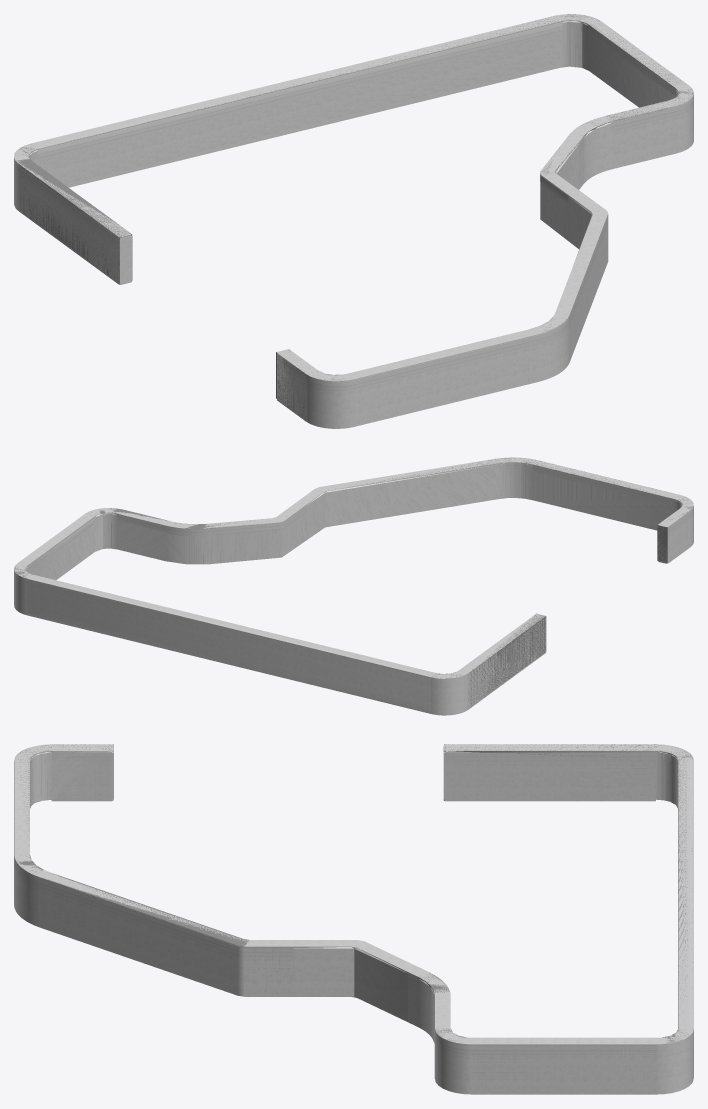
The model's file is si_helipad_limits.DAE.
The picture shows the model from 3 angles, top to bottom: view 1: azimuth 30°, elevation 25°; view 2: azimuth 150°, elevation 25°; view 3: azimuth 270°, elevation 25°; orthographic projection. The views are drawn at different scales.
Parts seen in each view (by area): view 1: si_helipad_limits3000, Colmesh-1, si_helipad_limits1800, si_helipad_limits600; view 2: Colmesh-1, si_helipad_limits1800, si_helipad_limits3000, si_helipad_limits600; view 3: si_helipad_limits3000, Colmesh-1, si_helipad_limits1800, si_helipad_limits600.
Part boxes in pixels (<box>): si_helipad_limits3000: <box>14,15,693,428</box>; Colmesh-1: <box>18,21,678,418</box>; si_helipad_limits1800: <box>14,14,693,417</box>; si_helipad_limits600: <box>15,14,693,414</box>; Colmesh-1: <box>25,463,682,712</box>; si_helipad_limits1800: <box>14,457,693,714</box>; si_helipad_limits3000: <box>14,458,693,715</box>; si_helipad_limits600: <box>14,457,692,707</box>; si_helipad_limits3000: <box>14,745,692,1094</box>; Colmesh-1: <box>30,751,677,1092</box>; si_helipad_limits1800: <box>14,744,693,1092</box>; si_helipad_limits600: <box>16,744,692,1043</box>.
Size of the model in its own units: 4522 by 4332 by 352.
